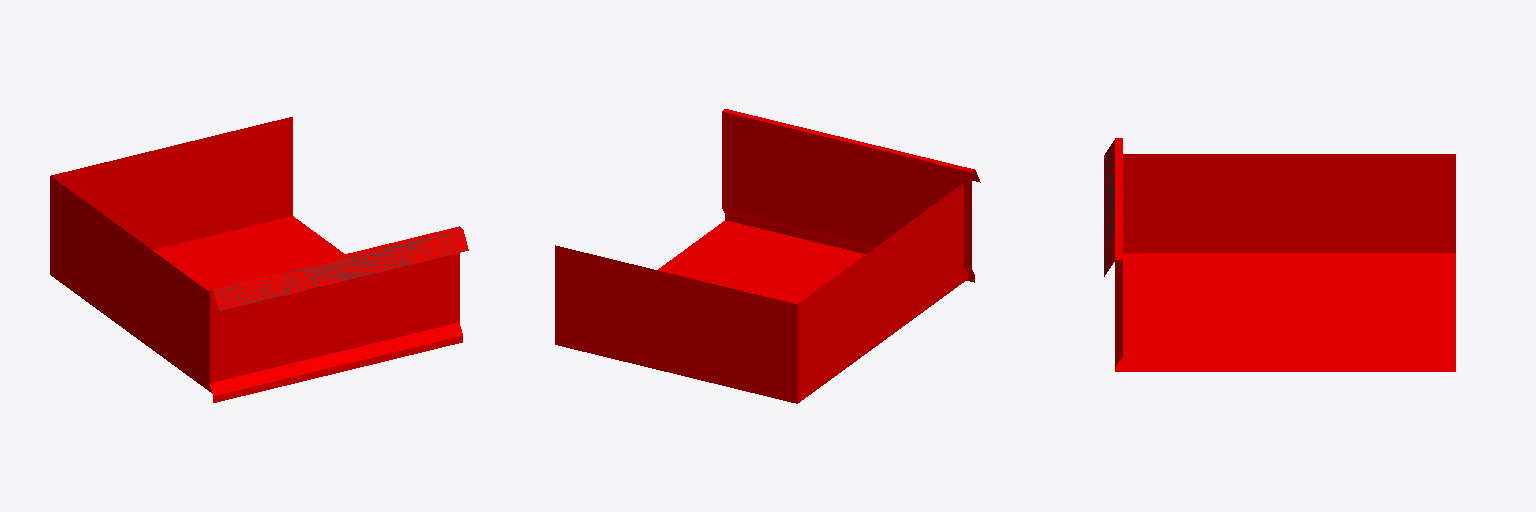
The model's file is original-3.obj.
3 views of the same model, side by side, from view 1: azimuth 30°, elevation 25°; view 2: azimuth 150°, elevation 25°; view 3: azimuth 270°, elevation 25° (orthographic).
Visible parts, largest first — view 1: Component_3_2/Component_3_1_2/mesh2/mesh2-geometry#mesh2-geometr; view 2: Component_3_2/Component_3_1_2/mesh2/mesh2-geometry#mesh2-geometr; view 3: Component_3_2/Component_3_1_2/mesh2/mesh2-geometry#mesh2-geometr.
Boxes of the visible parts, x1,y1,x2,y2 form: Component_3_2/Component_3_1_2/mesh2/mesh2-geometry#mesh2-geometr: [50, 117, 468, 402]; Component_3_2/Component_3_1_2/mesh2/mesh2-geometry#mesh2-geometr: [555, 109, 980, 403]; Component_3_2/Component_3_1_2/mesh2/mesh2-geometry#mesh2-geometr: [1104, 138, 1455, 371].
Size of the model in its own units: 0.4189 by 0.1813 by 0.5109.